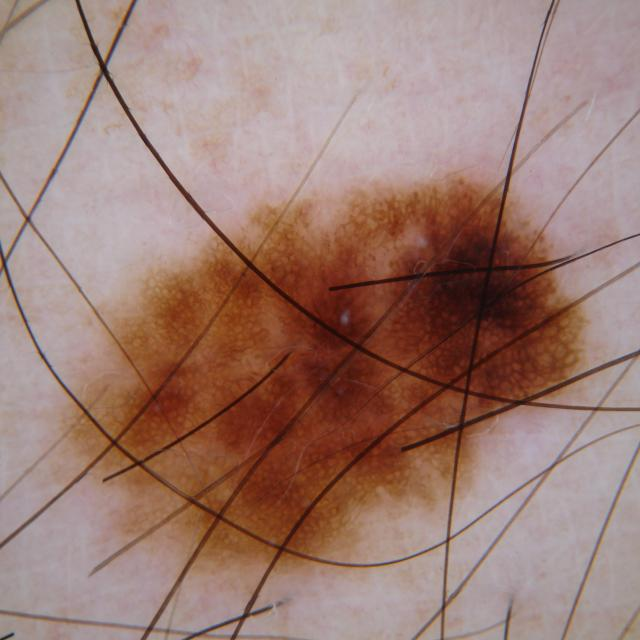Skin-Cancer Nevus: (53, 86, 586, 634)
